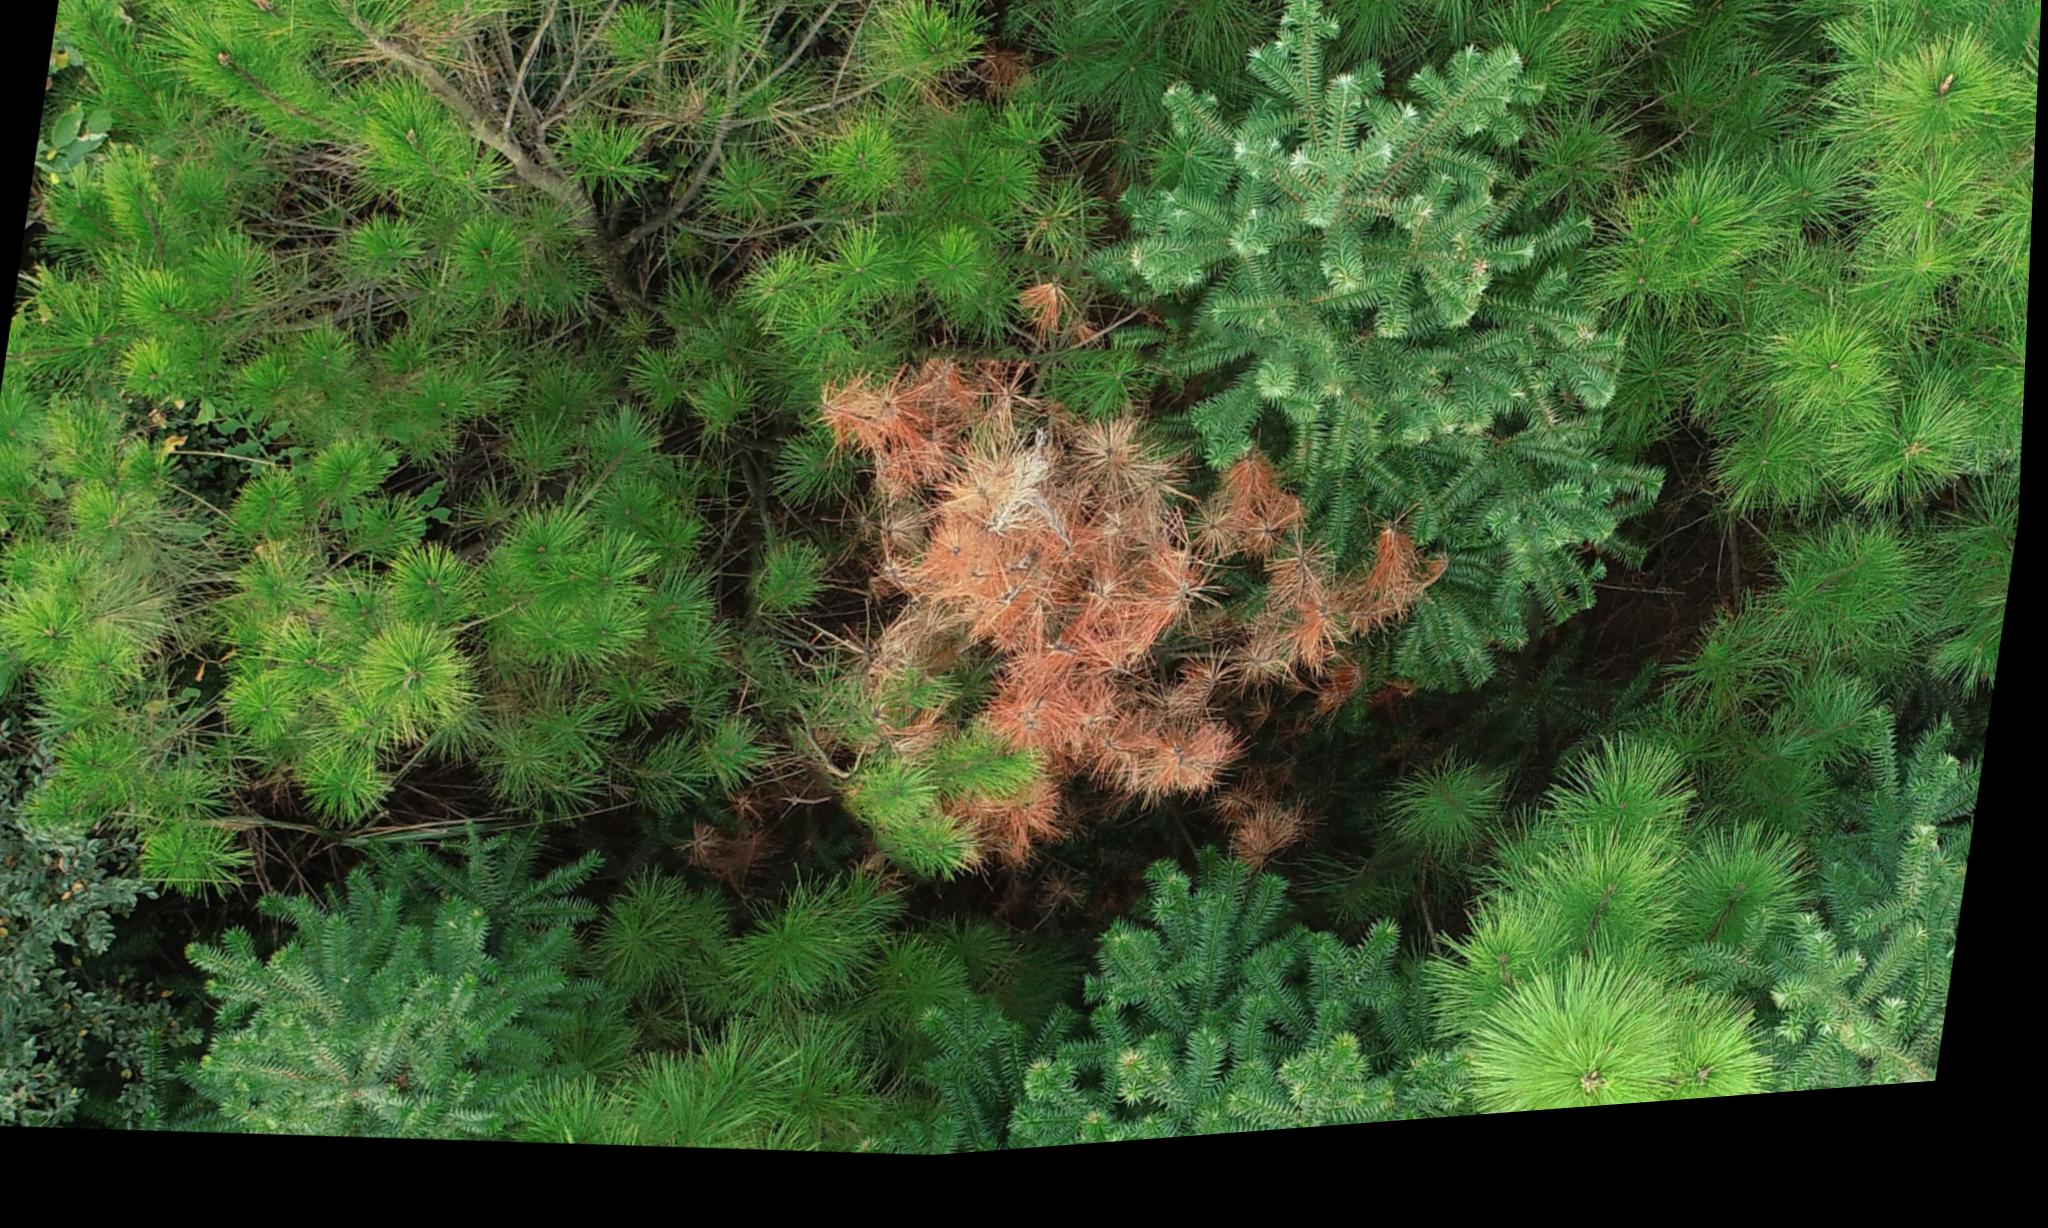heavy: (753, 253, 1466, 927)
